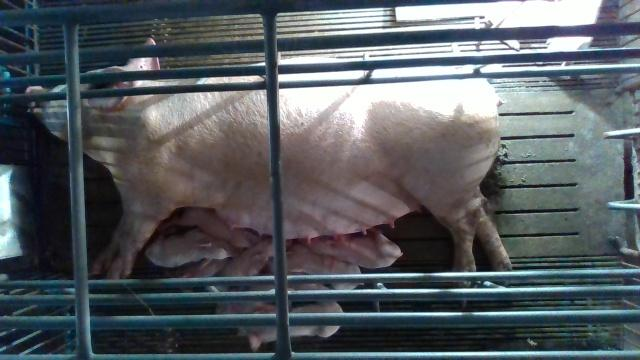piglet: (244, 301, 343, 351), (162, 206, 259, 249), (304, 227, 402, 269), (287, 244, 365, 291), (145, 231, 235, 268), (221, 239, 293, 284)
sow-sleep-lactate: (24, 37, 513, 288)
